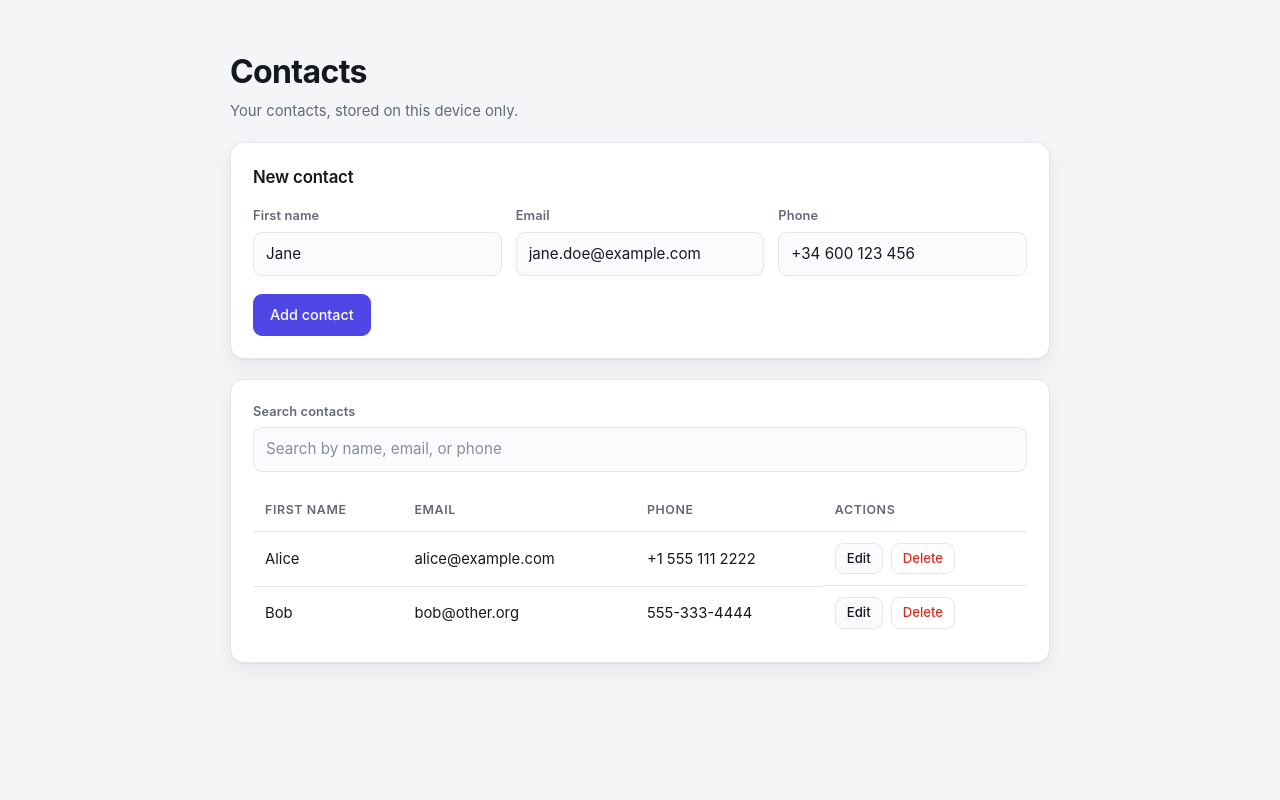
Scenario: deleting a contact › asks for confirmation naming the contact, then removes the row
Click the button "Delete" in the row of "alice@example.com" at [923, 558], box [891,542,955,574]
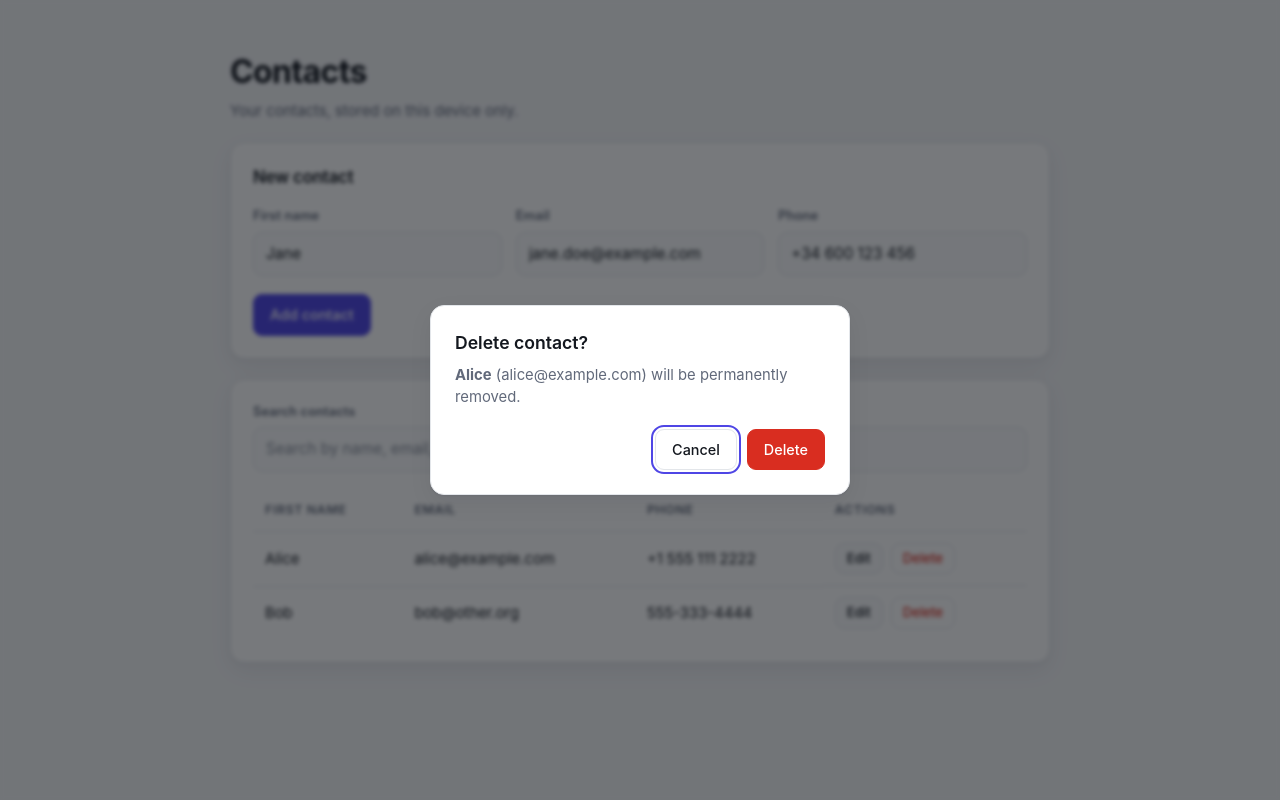
Expected: the dialog shows "Alice", [455,366,492,384]
Expected: the dialog shows "alice@example.com", [501,366,642,384]
Click the button "Delete" at [786, 449], box [747,429,825,470]
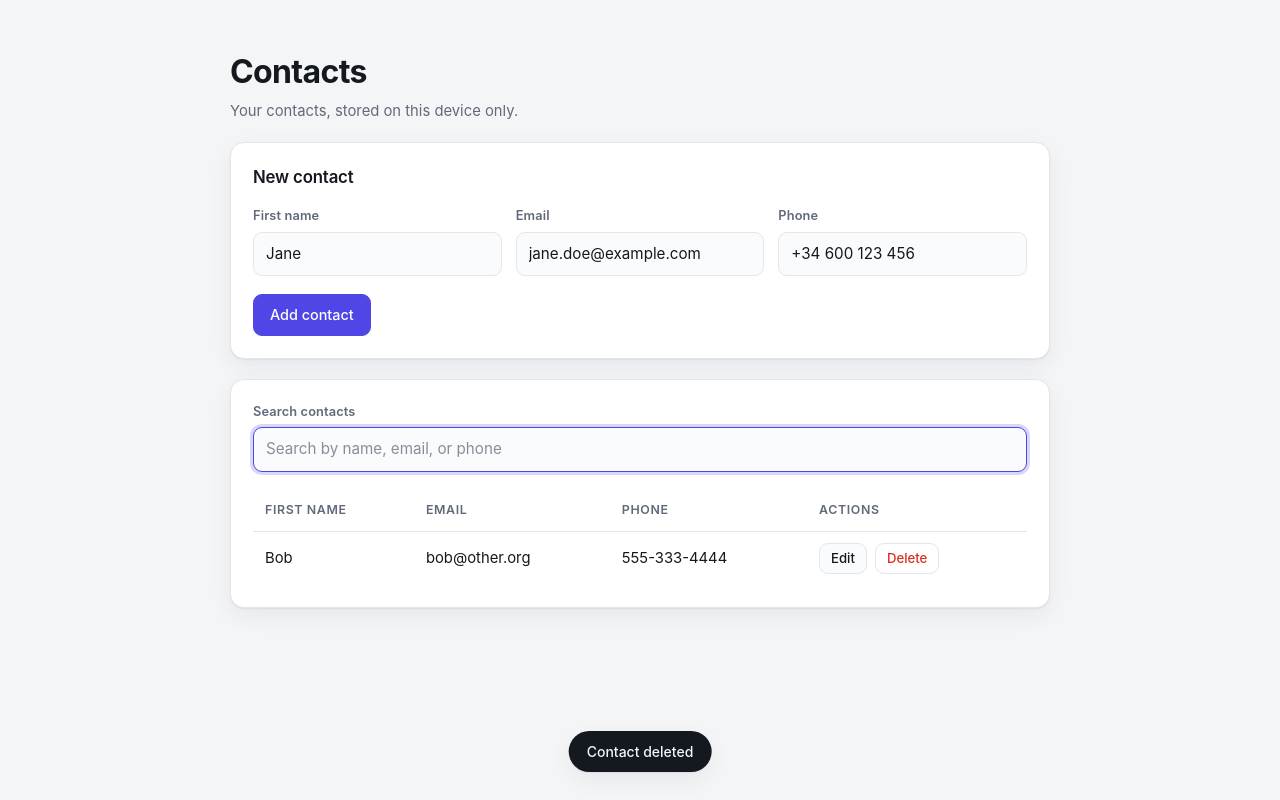
Expected: the row "Bob bob@other.org 555-333-4444 Edit Delete" is shown, [253,532,1027,585]
Expected: the text "Alice" is gone
Expected: the text "Contact deleted" is shown, [569,731,711,772]
